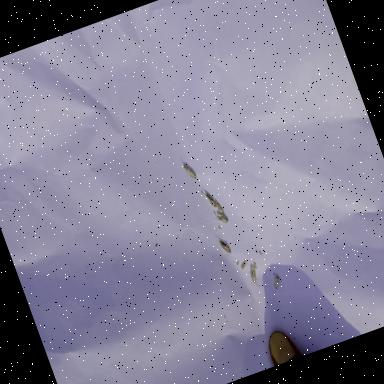pbw: (181, 158, 198, 182), (246, 265, 262, 288), (216, 236, 232, 257), (202, 189, 217, 210), (213, 210, 229, 226), (212, 197, 224, 216), (270, 273, 284, 289), (240, 261, 247, 269)
